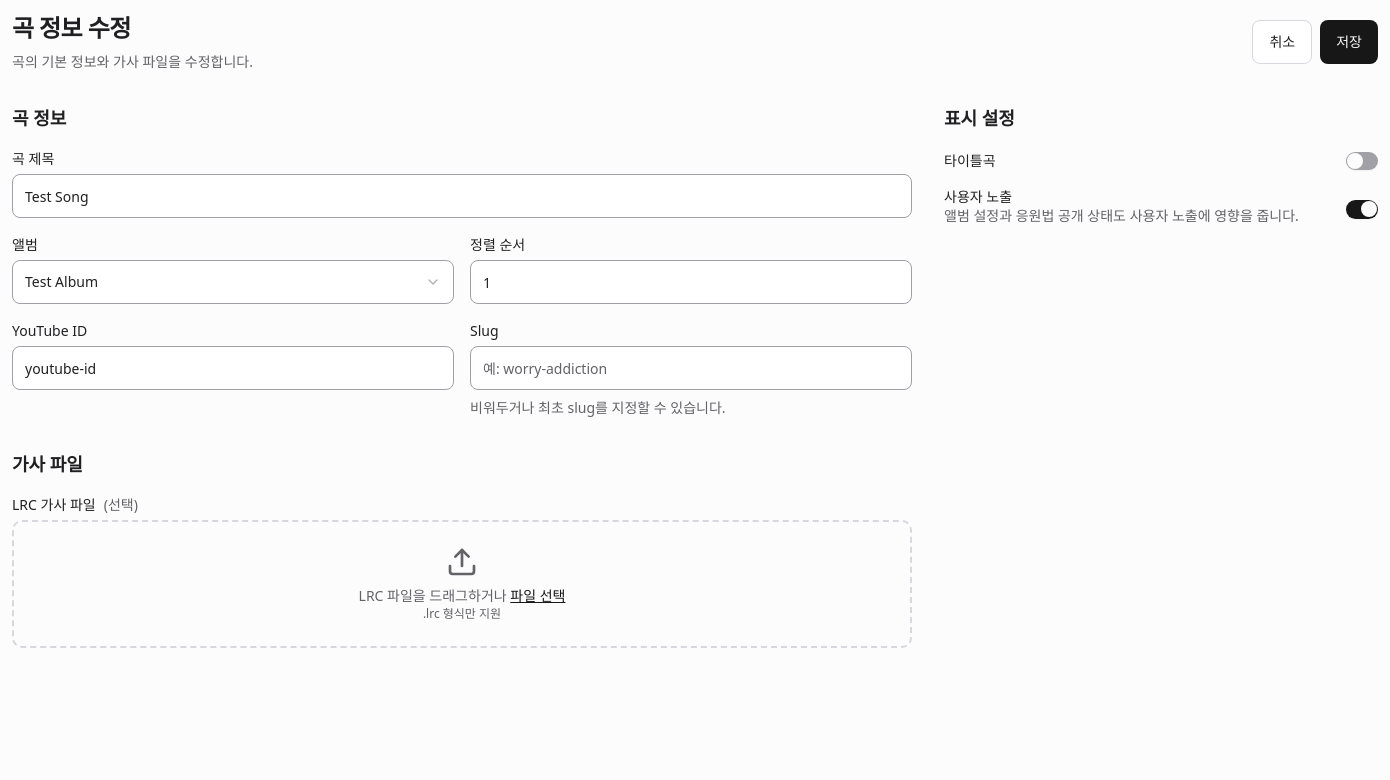
Test: SongForm slug policy › maps SONG_SLUG_ALREADY_EXISTS to the slug field
Type "first-slug" into the field labelled "Slug" at (691, 368), box [470, 346, 912, 390]
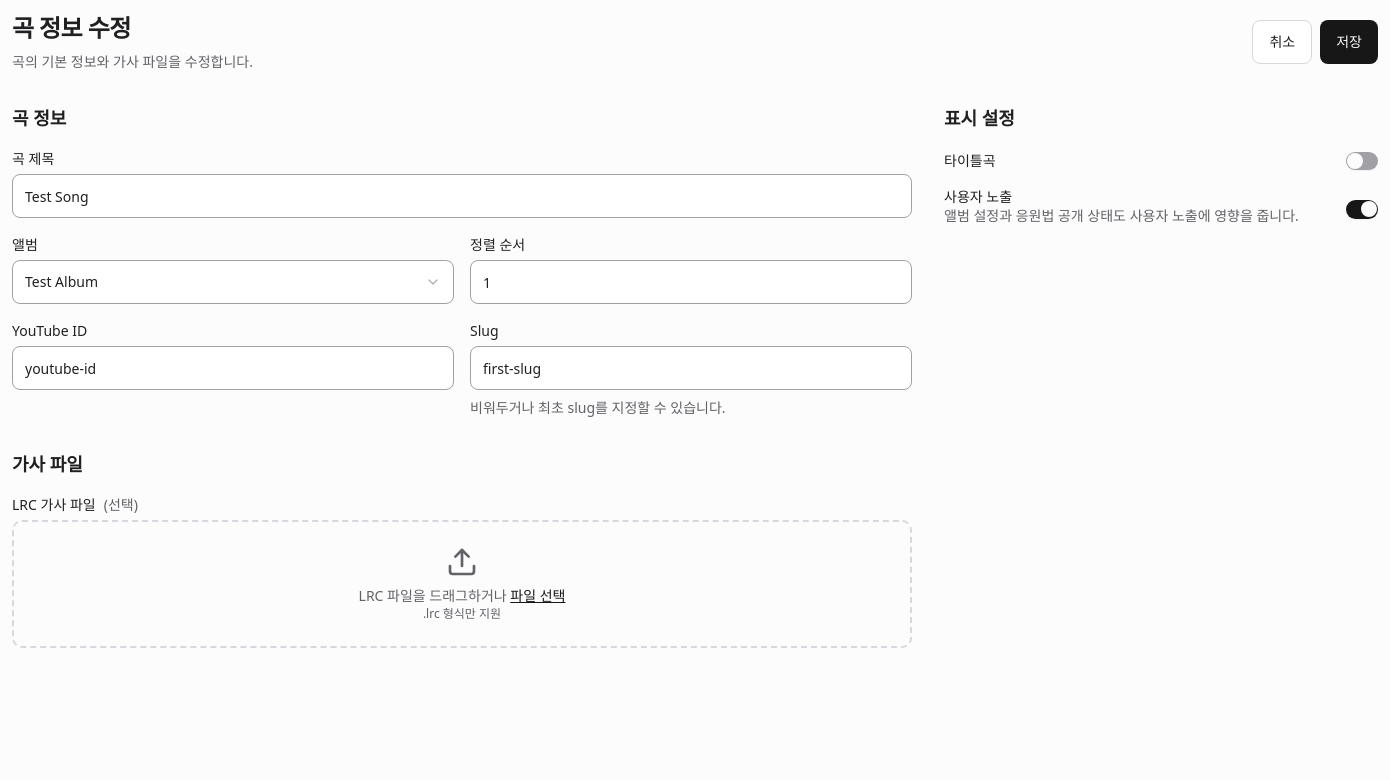
Click the button "저장" at (1349, 42), box [1320, 20, 1378, 64]
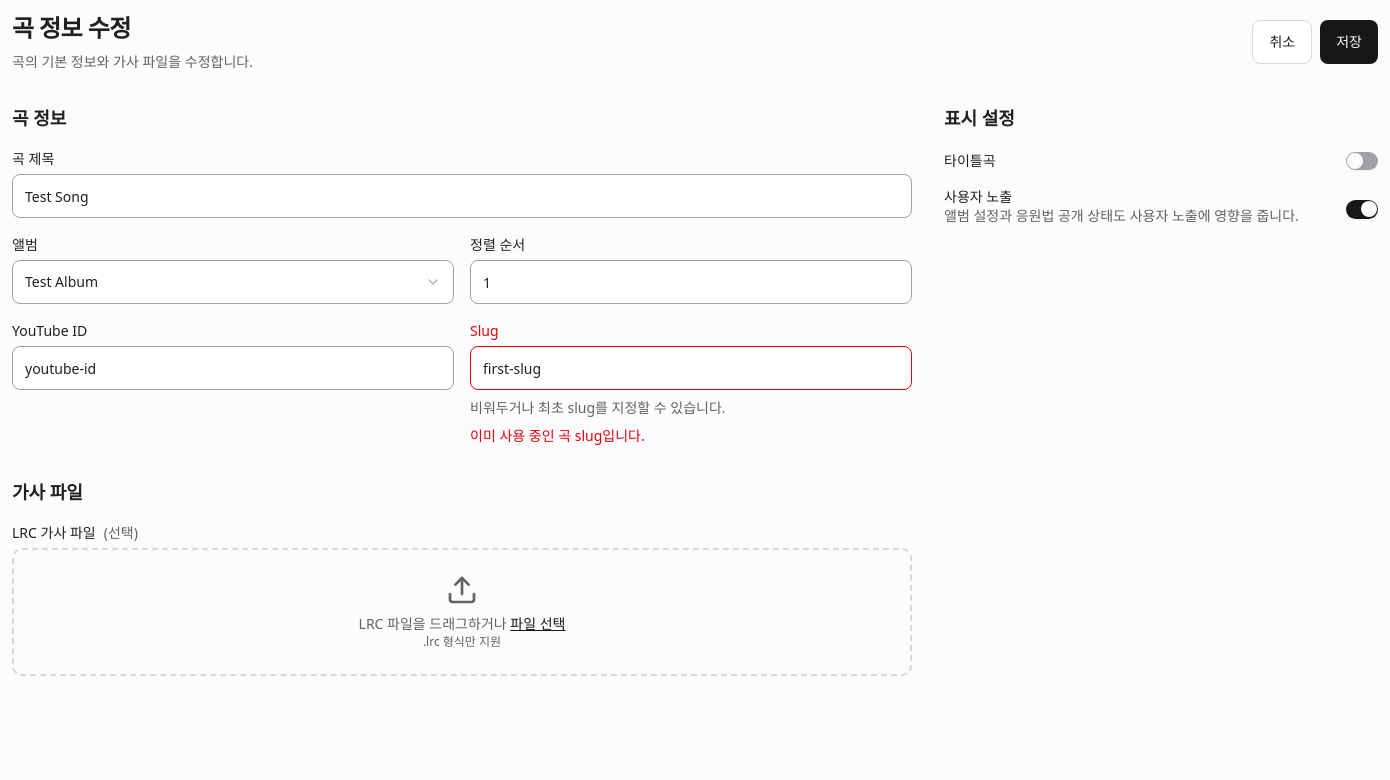
expect the text "이미 사용 중인 곡 slug입니다." is shown: met, box [470, 426, 645, 445]
